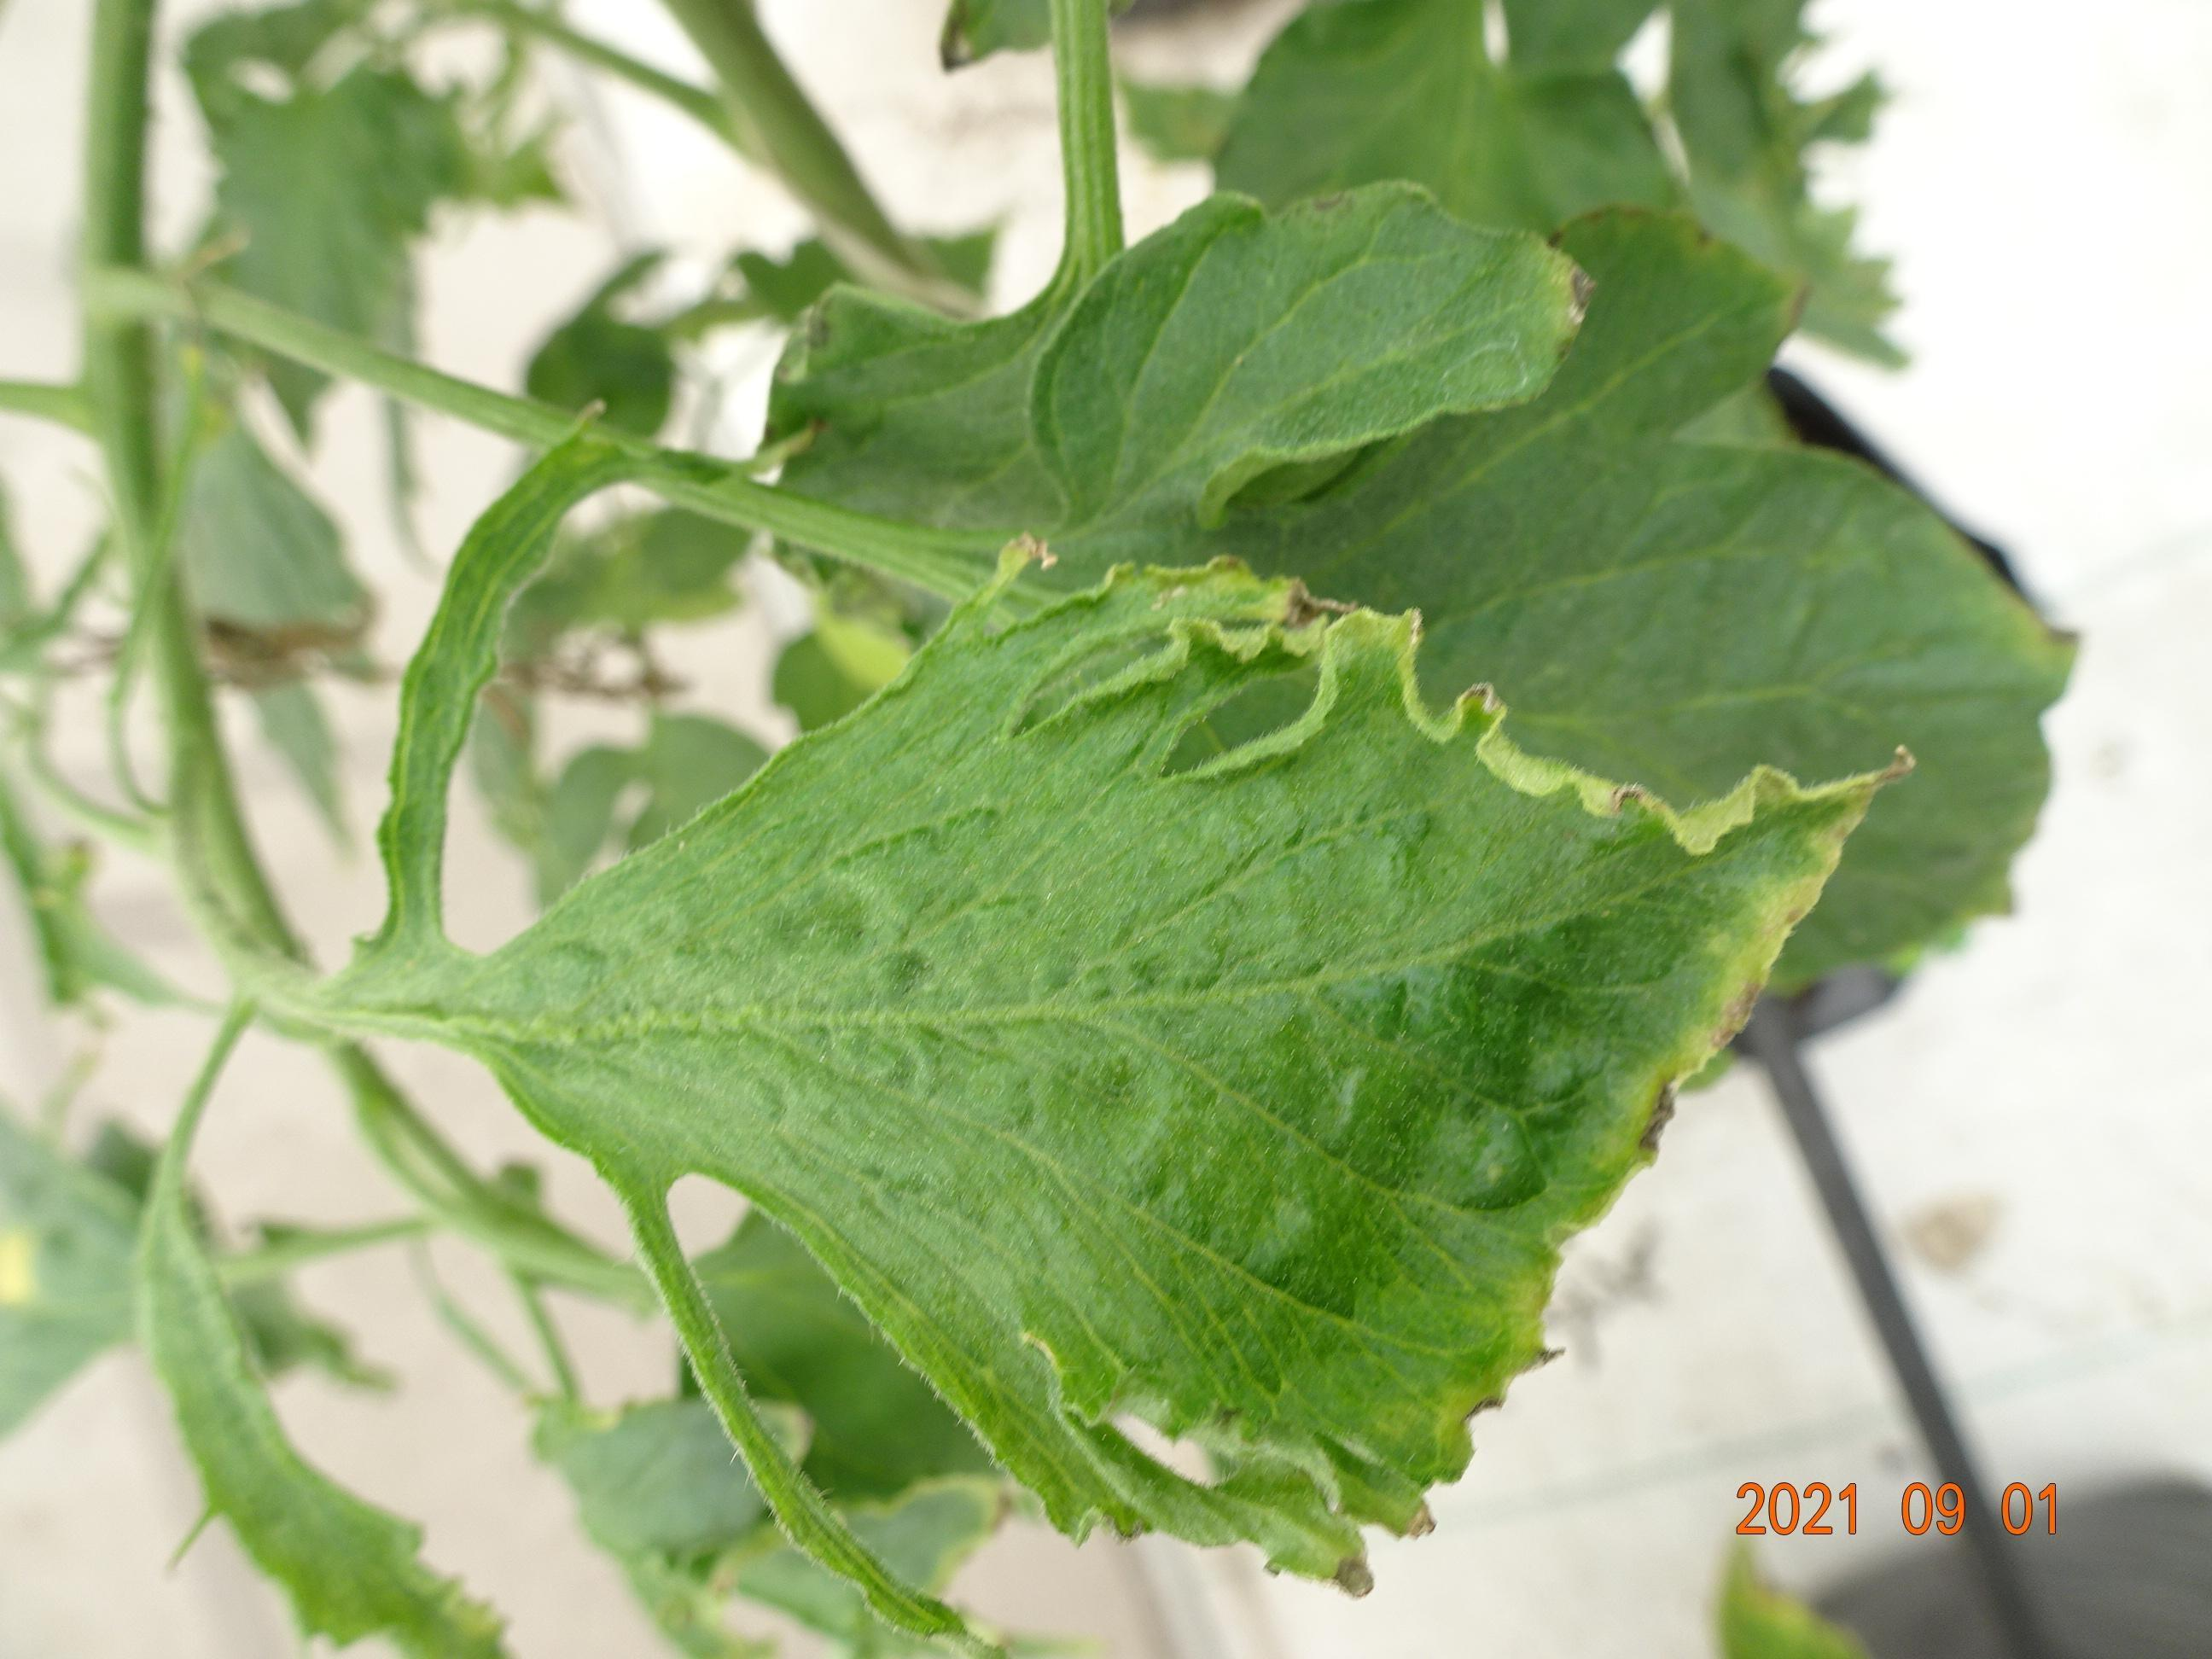Hoja rugoso: (322, 563, 1895, 1595)
